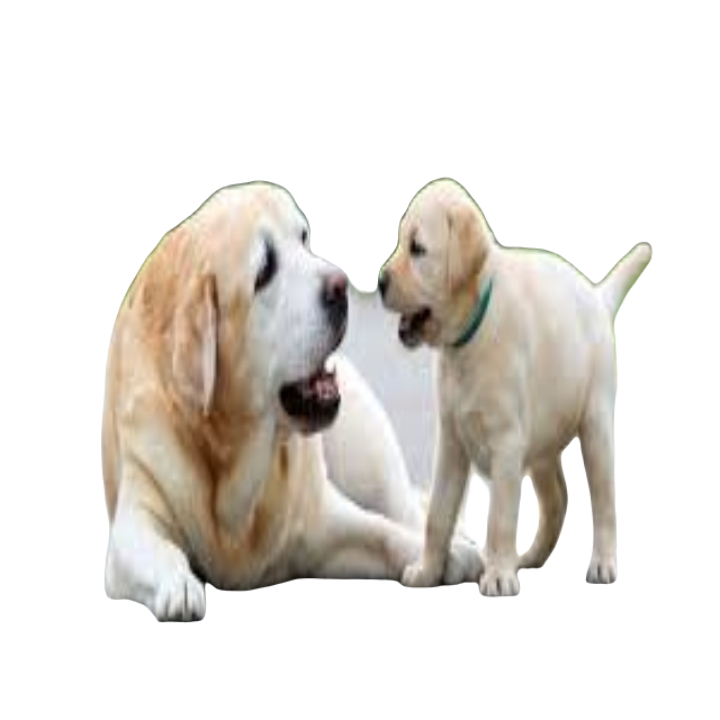Dog: (71, 161, 355, 620), (357, 177, 653, 597)
